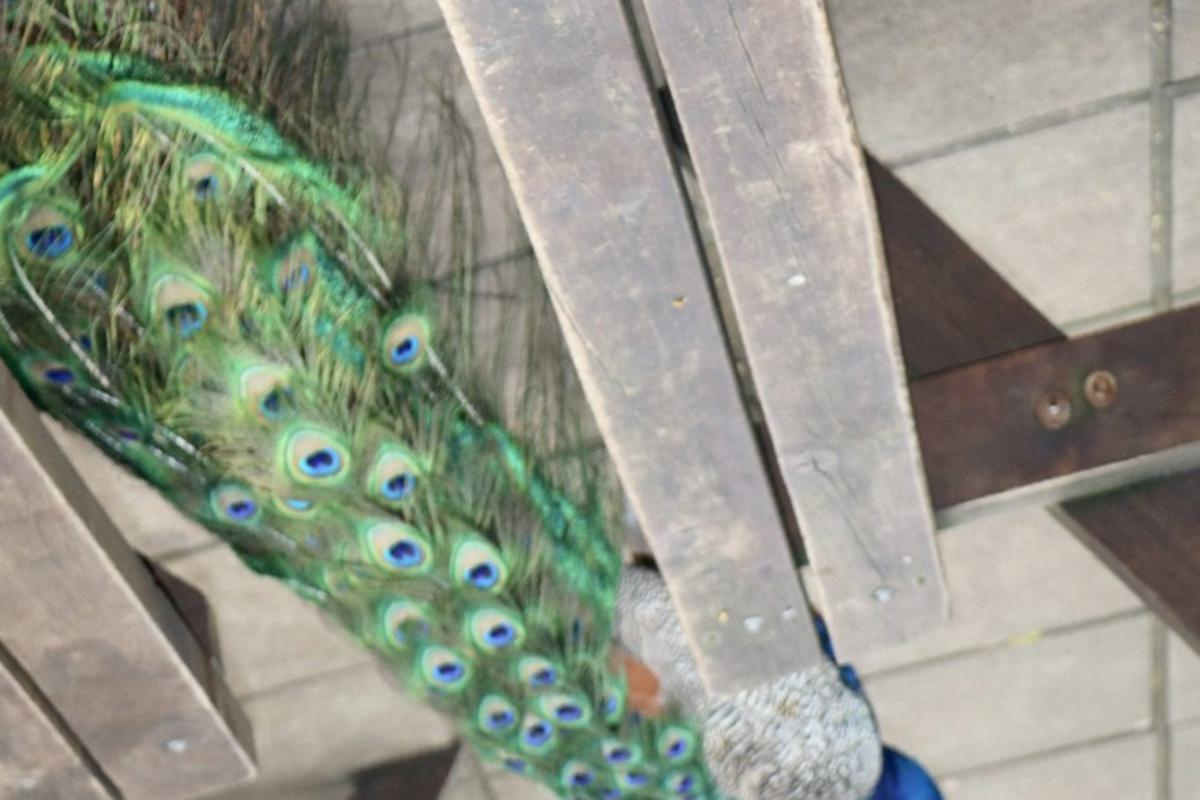peacock: (1, 41, 948, 797)
